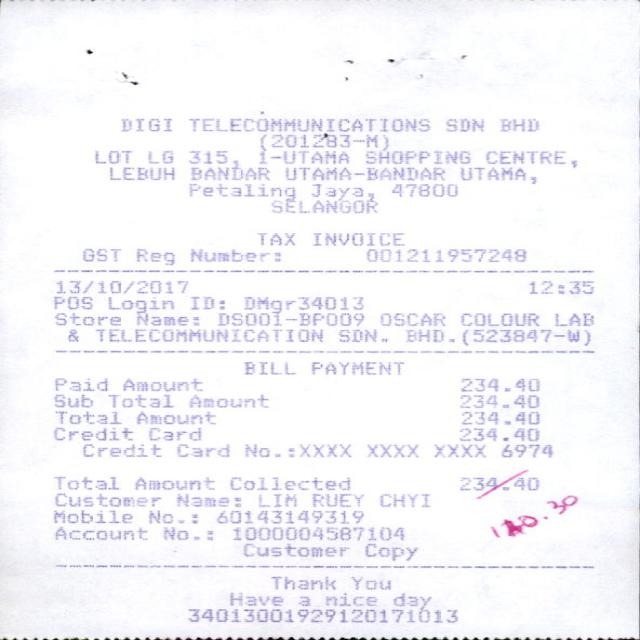text: (185, 607, 456, 622), (187, 117, 432, 131), (94, 328, 321, 341), (232, 526, 402, 540), (364, 247, 524, 261), (215, 508, 362, 523), (257, 133, 387, 149), (283, 167, 443, 179), (215, 311, 362, 324), (55, 279, 186, 293), (462, 328, 594, 341), (227, 475, 348, 489), (243, 295, 361, 309), (268, 199, 378, 214), (187, 182, 294, 197), (484, 150, 575, 167), (53, 492, 159, 506), (241, 542, 347, 556), (362, 150, 468, 163), (244, 443, 350, 456), (456, 475, 540, 491), (458, 166, 534, 183), (255, 149, 347, 163), (53, 525, 145, 539), (189, 247, 279, 261), (308, 360, 402, 373), (132, 475, 213, 489), (134, 409, 214, 423), (80, 442, 159, 456), (52, 508, 131, 522), (312, 232, 402, 244), (461, 410, 538, 424), (51, 426, 132, 439), (457, 427, 538, 440), (458, 312, 538, 325), (458, 394, 538, 407), (189, 394, 266, 407), (188, 167, 269, 179), (120, 378, 201, 390), (53, 474, 117, 489), (363, 542, 416, 560), (526, 279, 592, 293), (461, 378, 538, 390), (105, 393, 171, 407), (53, 409, 119, 423), (173, 492, 239, 506), (390, 182, 456, 195), (53, 311, 119, 324), (378, 311, 444, 324), (270, 575, 334, 588), (108, 167, 173, 179), (107, 296, 172, 308), (227, 591, 281, 605), (53, 376, 106, 390), (322, 591, 375, 605), (147, 508, 196, 523), (310, 182, 362, 196), (310, 492, 362, 506), (498, 443, 552, 456), (378, 492, 428, 506), (241, 360, 294, 373), (146, 426, 199, 439), (175, 443, 228, 456), (432, 443, 484, 456), (335, 328, 386, 341), (120, 117, 170, 130), (367, 443, 416, 456), (135, 248, 173, 264), (161, 527, 211, 539), (393, 590, 428, 607), (404, 329, 453, 341), (80, 247, 119, 261), (52, 393, 91, 407), (348, 576, 389, 589), (258, 492, 296, 506), (186, 150, 226, 163), (52, 295, 91, 308), (444, 117, 482, 130), (148, 314, 197, 324), (93, 149, 130, 162), (498, 118, 538, 130), (552, 313, 592, 325), (255, 232, 293, 244), (187, 296, 223, 308), (145, 150, 171, 162), (66, 328, 77, 341), (295, 595, 309, 605)
